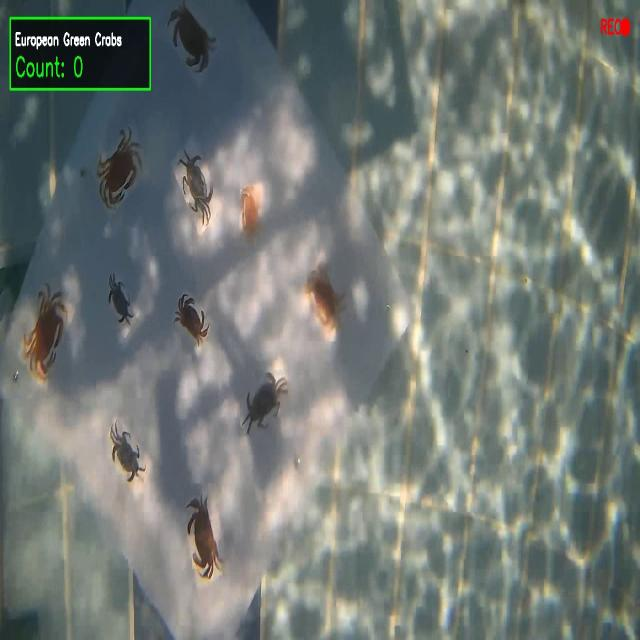European_Green_Crab: (172, 140, 224, 236), (236, 353, 292, 442), (103, 414, 148, 499), (100, 263, 139, 342)
